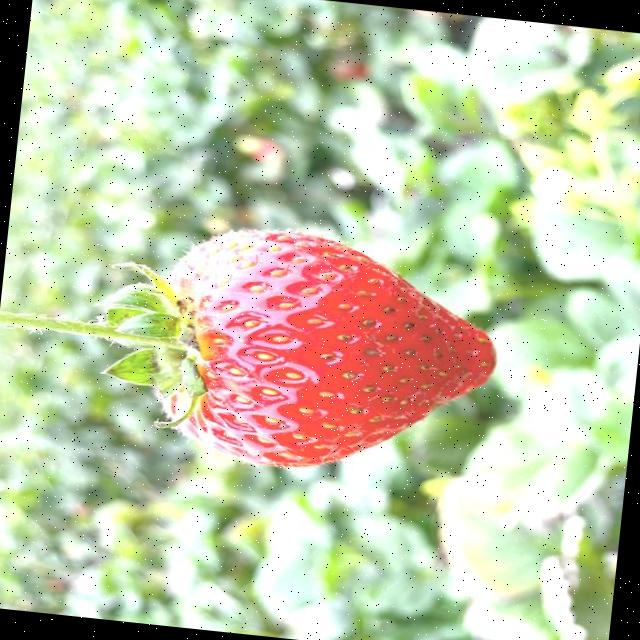strawberry: (104, 229, 494, 466)
